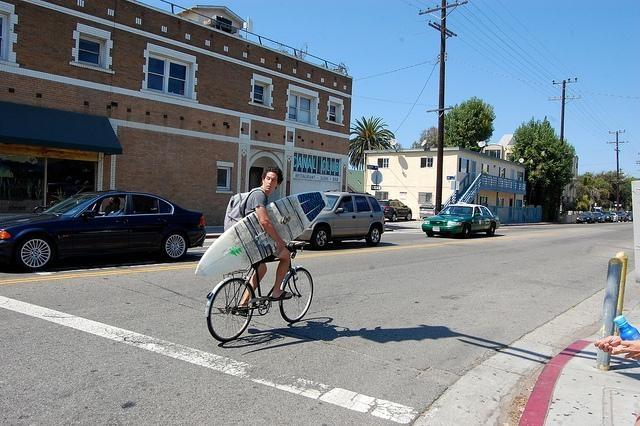bicycle: (204, 238, 315, 343)
car: (1, 189, 207, 270), (294, 191, 385, 249), (422, 202, 503, 242), (377, 198, 413, 223), (576, 212, 596, 224), (592, 213, 606, 223), (614, 212, 626, 223), (610, 212, 619, 222), (603, 212, 613, 220), (626, 211, 632, 221)
